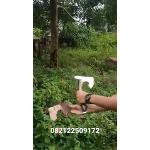Kapak: (72, 67, 100, 121)
